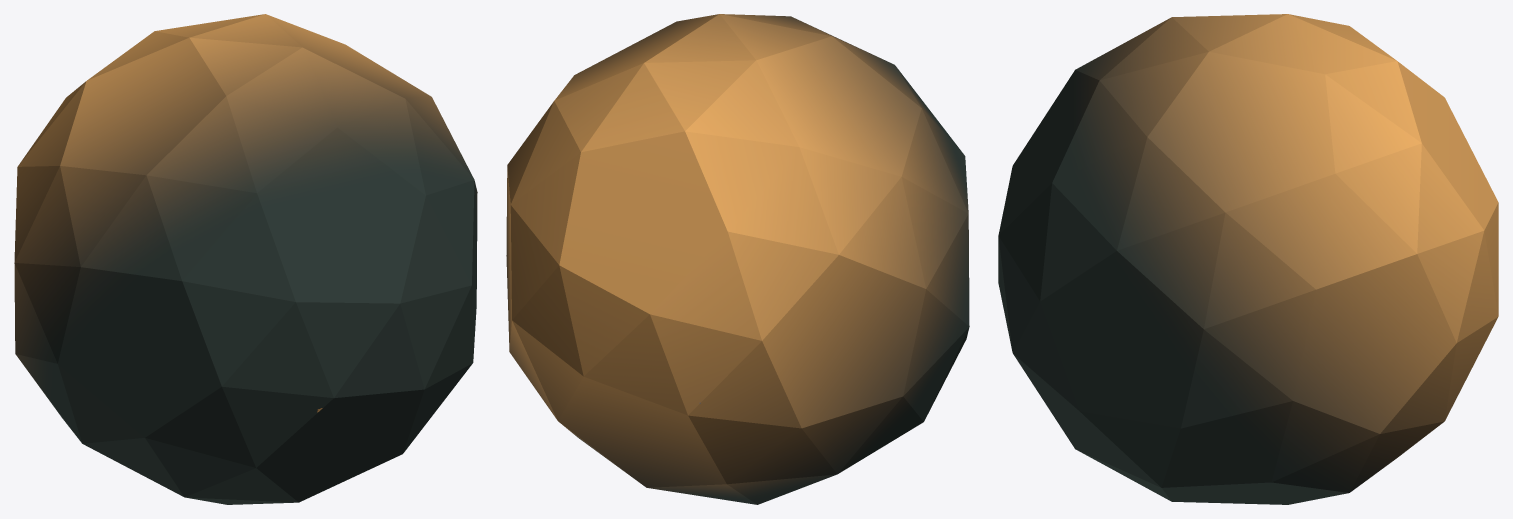
The model's file is Snub Dodecahedron.glb.
3 views of the same model, side by side, from view 1: azimuth 30°, elevation 25°; view 2: azimuth 150°, elevation 25°; view 3: azimuth 270°, elevation 25° (orthographic). The views are drawn at different scales.
Parts seen in each view (by area): view 1: Snub Dodecahedron; view 2: Snub Dodecahedron; view 3: Snub Dodecahedron.
Boxes of the visible parts, x1,y1,x2,y2 form: Snub Dodecahedron: (14, 14, 477, 504); Snub Dodecahedron: (506, 14, 969, 504); Snub Dodecahedron: (998, 14, 1498, 504).
Bounding box in the file's own units: 1.64 × 1.64 × 1.64.
1 material, 1 textured.
